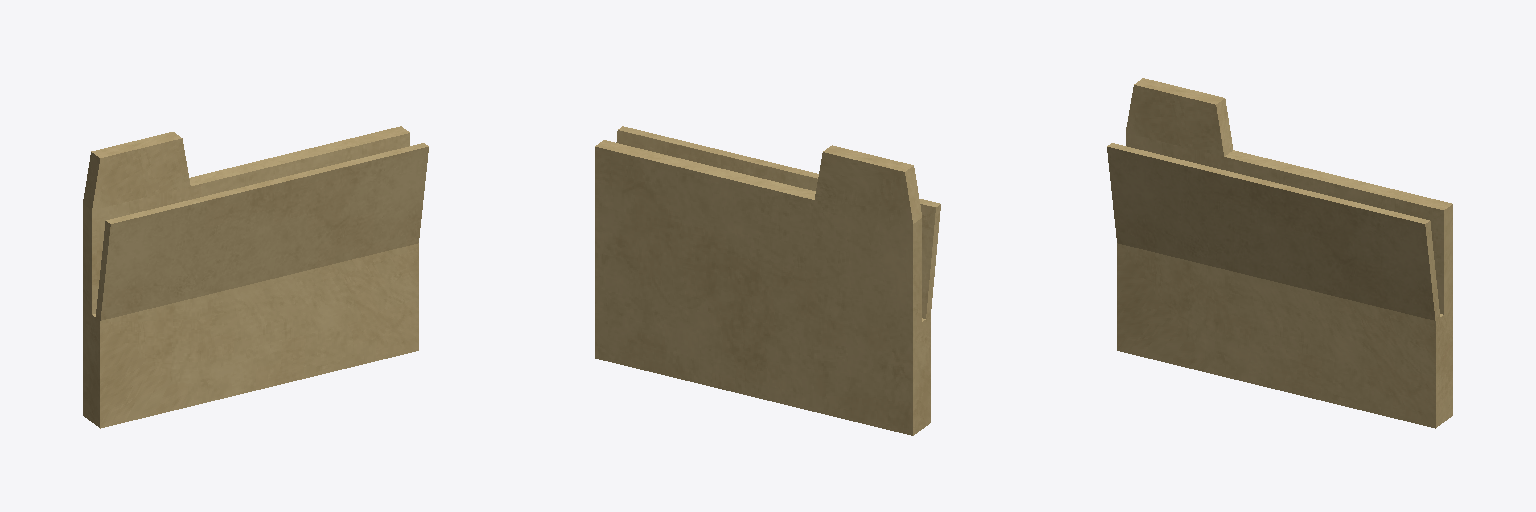
The picture shows the model from 3 angles: view 1: azimuth 30°, elevation 25°; view 2: azimuth 150°, elevation 25°; view 3: azimuth 330°, elevation 25°; orthographic projection.
Parts seen in each view (by area): view 1: folder_Cube.009; view 2: folder_Cube.009; view 3: folder_Cube.009.
Part boxes in pixels (x1,y1,x2,y2): folder_Cube.009: (83,126,428,428); folder_Cube.009: (595,126,940,435); folder_Cube.009: (1107,78,1452,428).
Size of the model in its own units: 4.27 by 3.35 by 0.6492.
1 materials, 1 textured.